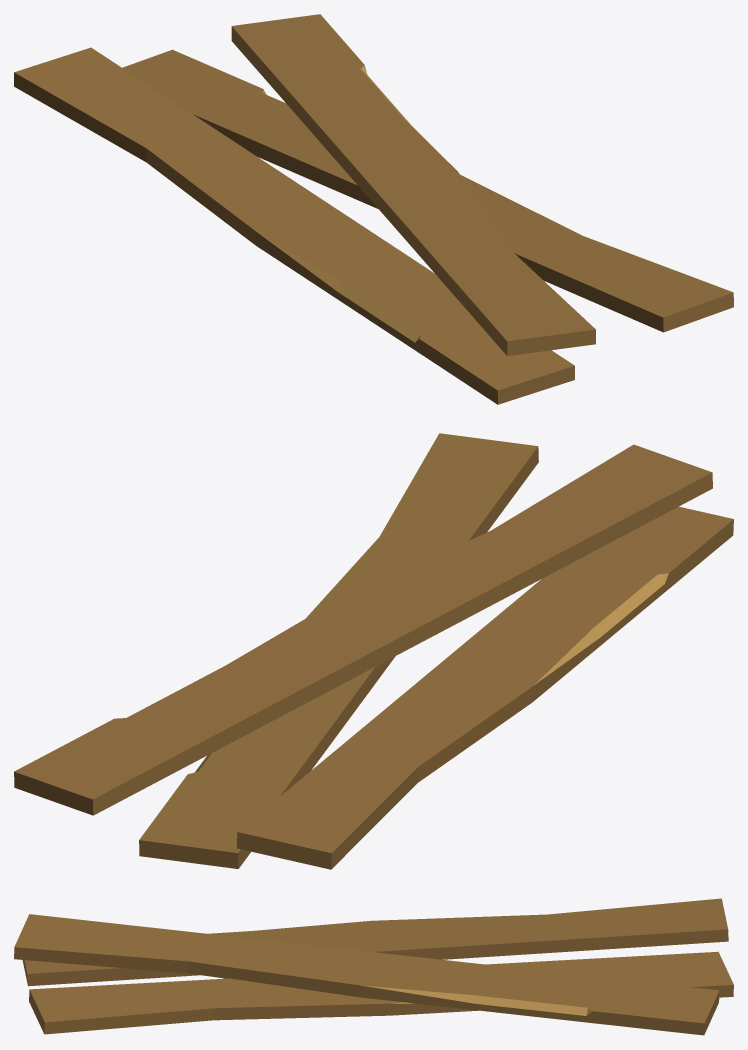
File: Wood Planks by Quaternius - hwQ1Fx5P8U.glb
The picture shows the model from 3 angles, top to bottom: view 1: azimuth 30°, elevation 25°; view 2: azimuth 150°, elevation 25°; view 3: azimuth 270°, elevation 25°; orthographic projection. The views are drawn at different scales.
Visible parts, largest first — view 1: WoodPlanks; view 2: WoodPlanks; view 3: WoodPlanks.
Boxes of the visible parts, x1=… form: WoodPlanks: x1=14, y1=14, x2=733, y2=404; WoodPlanks: x1=14, y1=433, x2=733, y2=869; WoodPlanks: x1=14, y1=898, x2=733, y2=1035.
Bounding box in the file's own units: 0.7163 × 0.1245 × 1.73.
